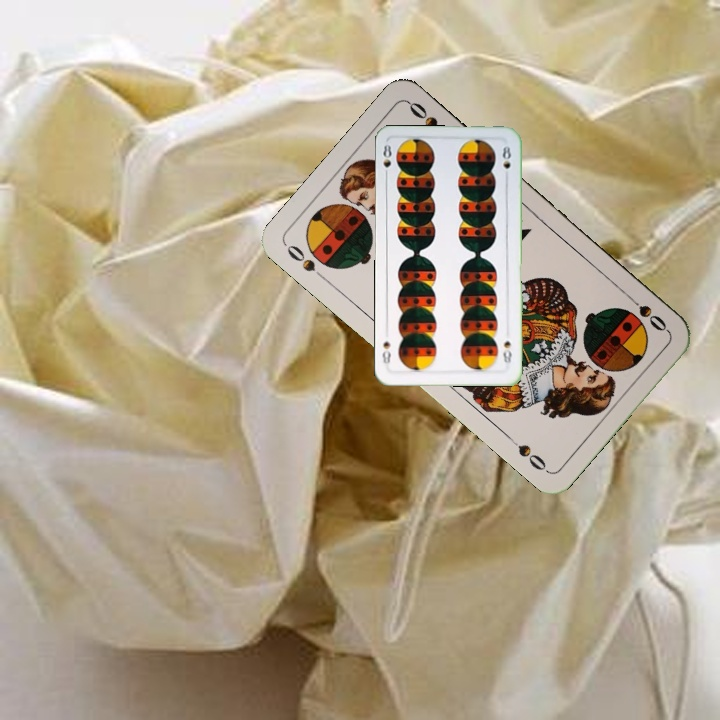S8: (379, 140, 394, 181), (499, 337, 514, 366)
SO: (622, 289, 671, 334), (282, 240, 330, 284)
